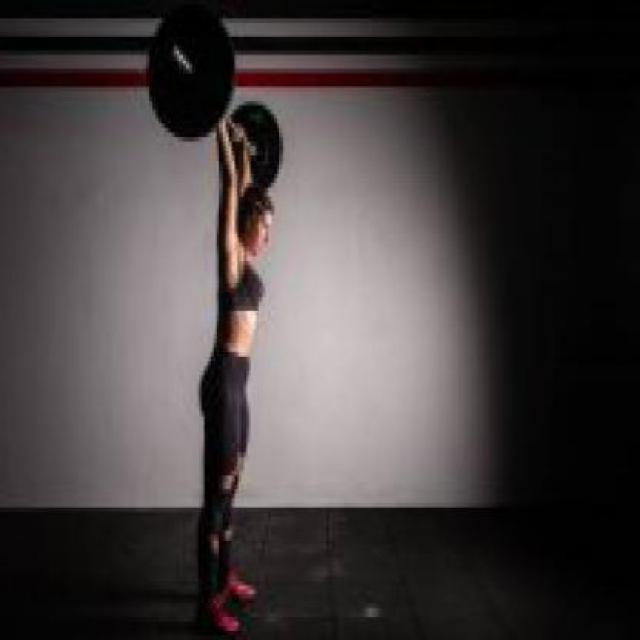Barbell: (162, 36, 180, 64)
